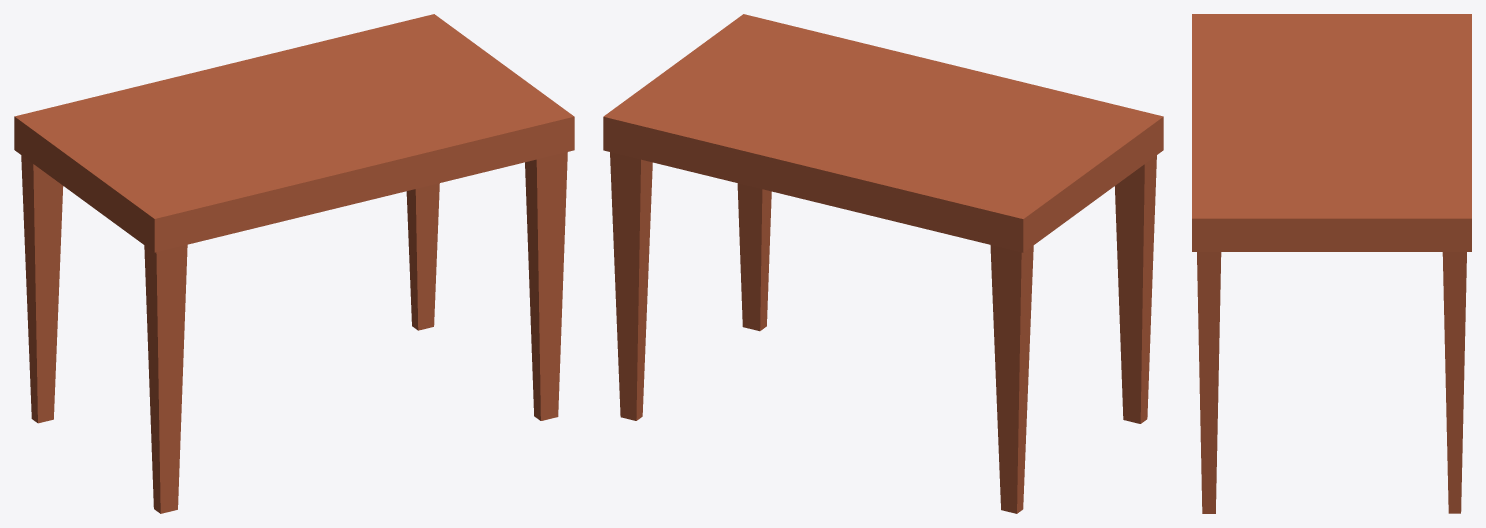
The model's file is Table.fbx.
3 views of the same model, side by side, from view 1: azimuth 30°, elevation 25°; view 2: azimuth 150°, elevation 25°; view 3: azimuth 270°, elevation 25° (orthographic).
Visible parts, largest first — view 1: Table; view 2: Table; view 3: Table.
Boxes of the visible parts, x1,y1,x2,y2 form: Table: (14, 14, 574, 513); Table: (603, 14, 1163, 513); Table: (1192, 14, 1471, 513).
Bounding box in the file's own units: 8094 × 5553 × 4681.
